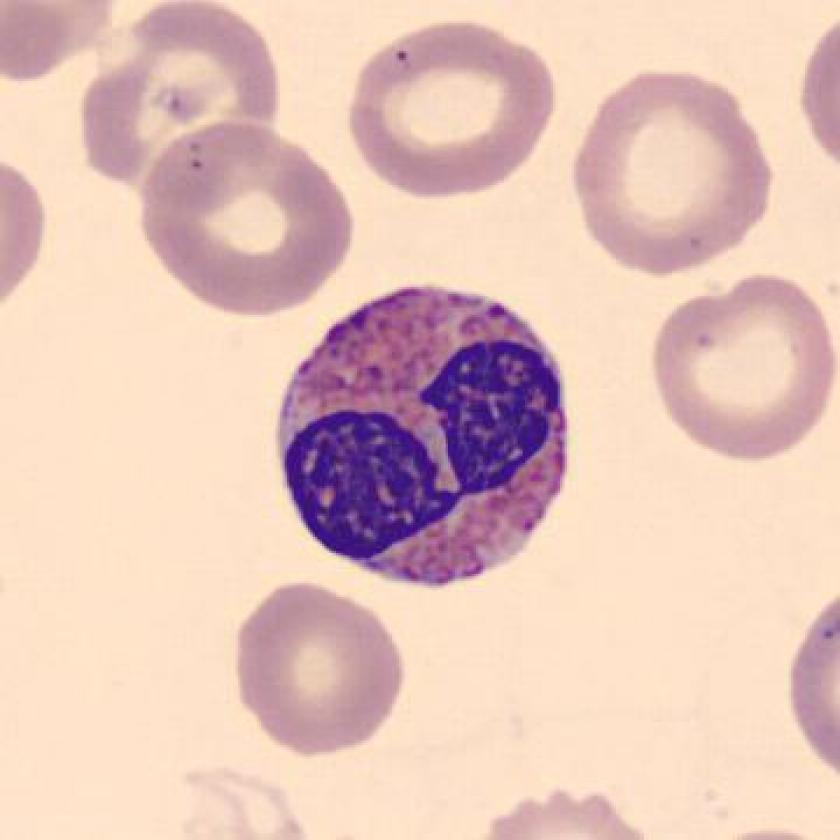eosinophil: (258, 274, 589, 612)
